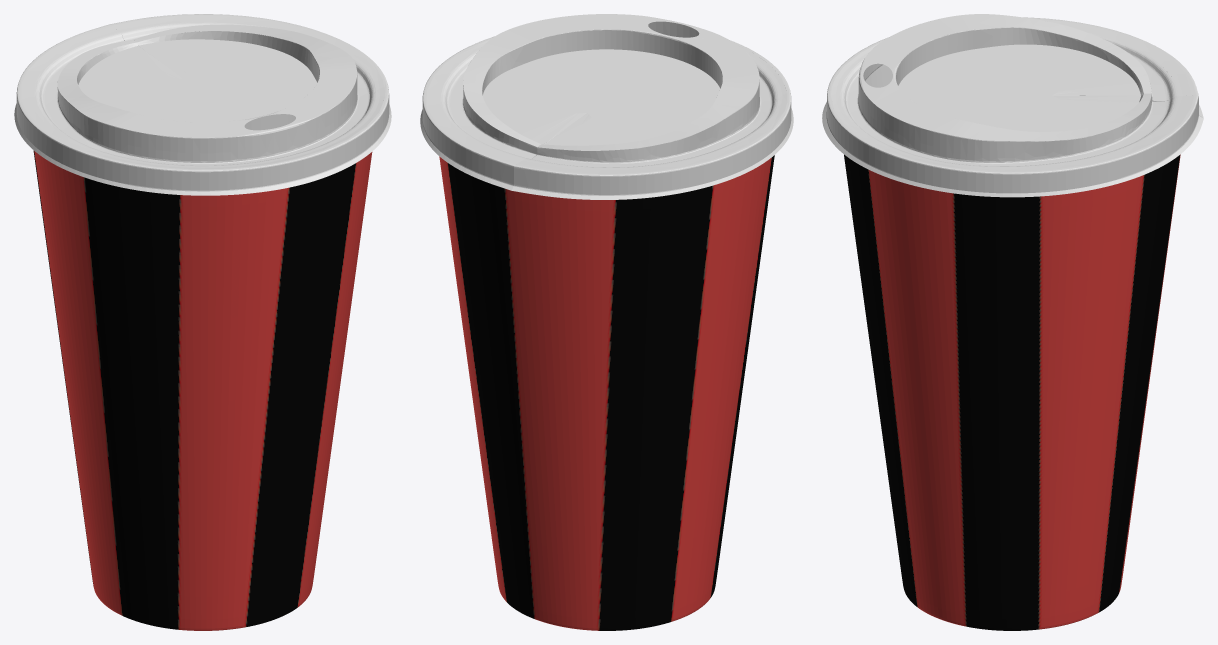
3 views of the same model, side by side, from view 1: azimuth 30°, elevation 25°; view 2: azimuth 150°, elevation 25°; view 3: azimuth 270°, elevation 25° (orthographic).
Parts seen in each view (by area): view 1: Circle, Lid; view 2: Circle, Lid; view 3: Circle, Lid.
Boxes of the visible parts, box(x1,y1,x2,y2) form: Circle: box(33, 150, 372, 630); Lid: box(14, 14, 391, 195); Circle: box(439, 155, 774, 630); Lid: box(420, 14, 793, 199); Circle: box(844, 64, 1180, 630); Lid: box(822, 14, 1203, 197).
Size of the model in its own units: 0.9549 by 1.43 by 0.9735.
3 materials, 1 textured.
